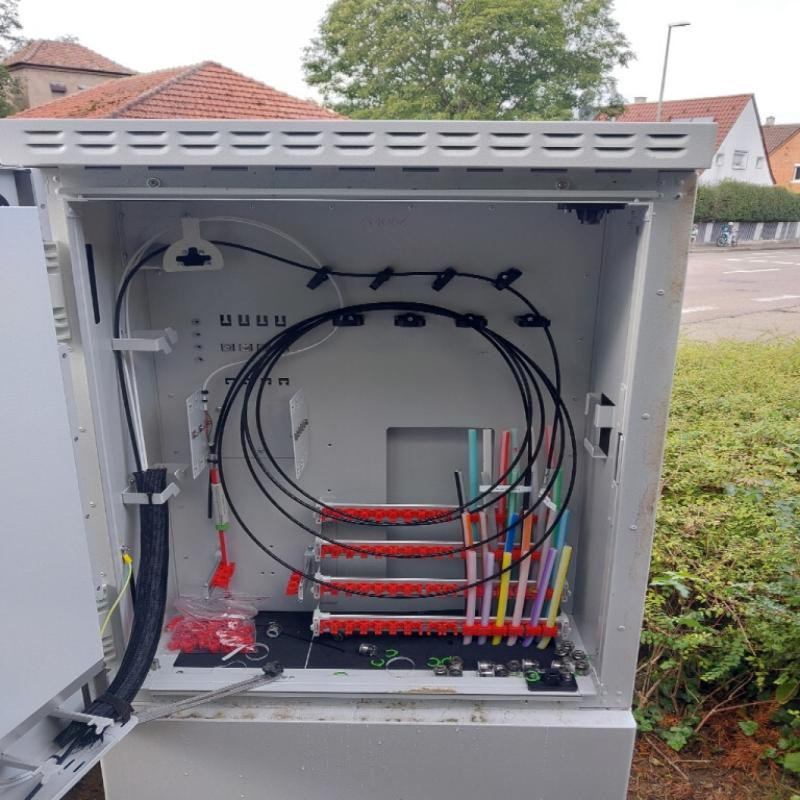NT-Gehause: (0, 117, 702, 799)
